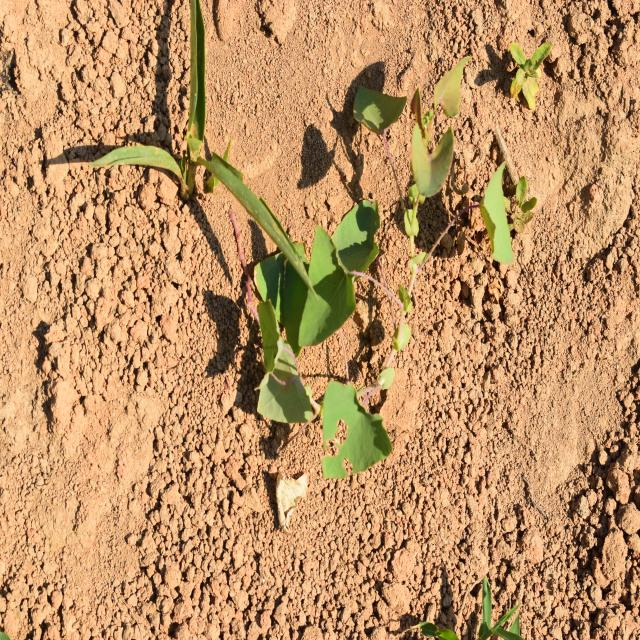Asiatic_Smartweed: (234, 229, 441, 482), (336, 42, 524, 274)
